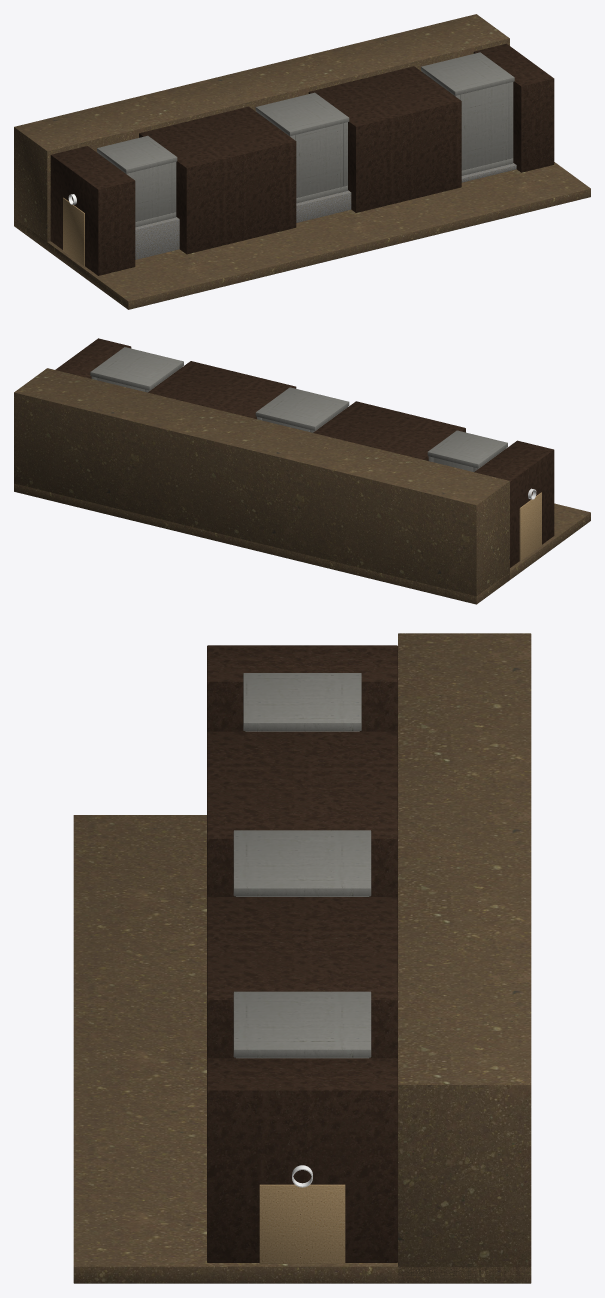
File: KIT-HID-04.glb
3 views of the same model, one above another, from view 1: azimuth 30°, elevation 25°; view 2: azimuth 150°, elevation 25°; view 3: azimuth 270°, elevation 25° (orthographic). The views are drawn at different scales.
Parts seen in each view (by area): view 1: KIT-HID-04_terreno, KIT-HID-04_fundo_vala, KIT-HID-04_reaterro1, KIT-HID-04_reaterro2, KIT-HID-04_reaterro0, KIT-HID-04_reaterro3, KIT-HID-04_inspecao2_py-1, KIT-HID-04_inspecao1_py-1, KIT-HID-04_inspecao1_tampa, KIT-HID-04_inspecao2_tampa, KIT-HID-04_gordura_py-1, KIT-HID-04_gordura_tampa (+5 smaller); view 2: KIT-HID-04_terreno, KIT-HID-04_fundo_vala, KIT-HID-04_reaterro1, KIT-HID-04_reaterro2, KIT-HID-04_reaterro0, KIT-HID-04_inspecao1_tampa, KIT-HID-04_inspecao2_tampa, KIT-HID-04_gordura_tampa, KIT-HID-04_reaterro3, KIT-HID-04_berco0; view 3: KIT-HID-04_terreno, KIT-HID-04_fundo_vala, KIT-HID-04_reaterro3, KIT-HID-04_reaterro1, KIT-HID-04_reaterro2, KIT-HID-04_reaterro0, KIT-HID-04_inspecao1_tampa, KIT-HID-04_inspecao2_tampa, KIT-HID-04_berco3, KIT-HID-04_gordura_tampa.
Part boxes in pixels (left/top/right/bottom): KIT-HID-04_terreno: left=14, top=14, right=509, bottom=249; KIT-HID-04_fundo_vala: left=14, top=162, right=590, bottom=309; KIT-HID-04_reaterro1: left=139, top=106, right=296, bottom=254; KIT-HID-04_reaterro2: left=308, top=66, right=461, bottom=212; KIT-HID-04_reaterro0: left=50, top=146, right=135, bottom=275; KIT-HID-04_reaterro3: left=473, top=43, right=554, bottom=172; KIT-HID-04_inspecao2_py-1: left=460, top=83, right=508, bottom=170; KIT-HID-04_inspecao1_py-1: left=295, top=123, right=342, bottom=197; KIT-HID-04_inspecao1_tampa: left=255, top=92, right=349, bottom=135; KIT-HID-04_inspecao2_tampa: left=421, top=52, right=514, bottom=95; KIT-HID-04_gordura_py-1: left=131, top=163, right=171, bottom=221; KIT-HID-04_gordura_tampa: left=97, top=135, right=177, bottom=173; KIT-HID-04_terreno: left=14, top=368, right=509, bottom=603; KIT-HID-04_fundo_vala: left=14, top=483, right=590, bottom=604; KIT-HID-04_reaterro1: left=313, top=401, right=465, bottom=460; KIT-HID-04_reaterro2: left=148, top=361, right=296, bottom=418; KIT-HID-04_reaterro0: left=474, top=440, right=554, bottom=567; KIT-HID-04_inspecao1_tampa: left=255, top=387, right=349, bottom=430; KIT-HID-04_inspecao2_tampa: left=90, top=347, right=183, bottom=390; KIT-HID-04_gordura_tampa: left=427, top=430, right=507, bottom=468; KIT-HID-04_reaterro3: left=55, top=338, right=131, bottom=378; KIT-HID-04_berco0: left=519, top=492, right=541, bottom=561; KIT-HID-04_terreno: left=398, top=633, right=531, bottom=1283; KIT-HID-04_fundo_vala: left=73, top=815, right=531, bottom=1283; KIT-HID-04_reaterro3: left=207, top=1058, right=397, bottom=1262; KIT-HID-04_reaterro1: left=207, top=731, right=397, bottom=897; KIT-HID-04_reaterro2: left=207, top=897, right=397, bottom=1058; KIT-HID-04_reaterro0: left=207, top=645, right=397, bottom=731; KIT-HID-04_inspecao1_tampa: left=233, top=830, right=371, bottom=896; KIT-HID-04_inspecao2_tampa: left=233, top=991, right=371, bottom=1057; KIT-HID-04_berco3: left=259, top=1184, right=345, bottom=1263; KIT-HID-04_gordura_tampa: left=243, top=673, right=361, bottom=730.
Bounding box in the file's own units: 5.6 × 1.15 × 2.4.
6 materials, 5 textured.
